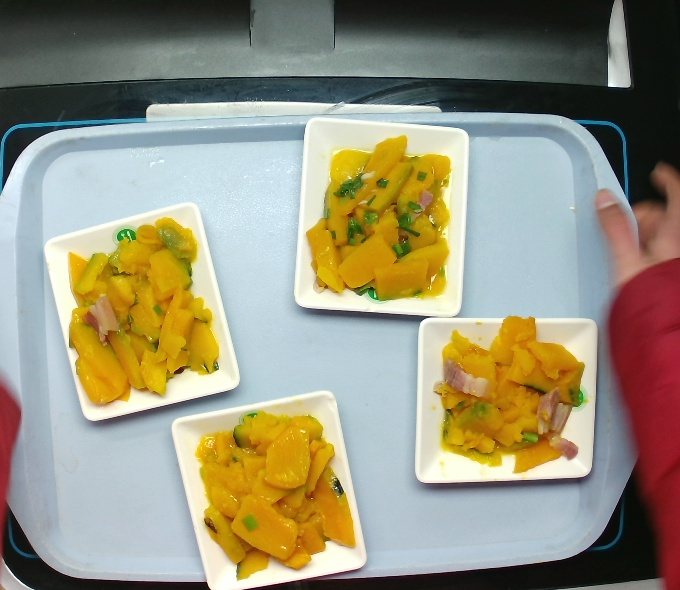wcq-NanGuaChaoLaRou: (59, 212, 224, 412), (189, 405, 362, 586), (298, 130, 456, 306), (428, 310, 591, 478)
